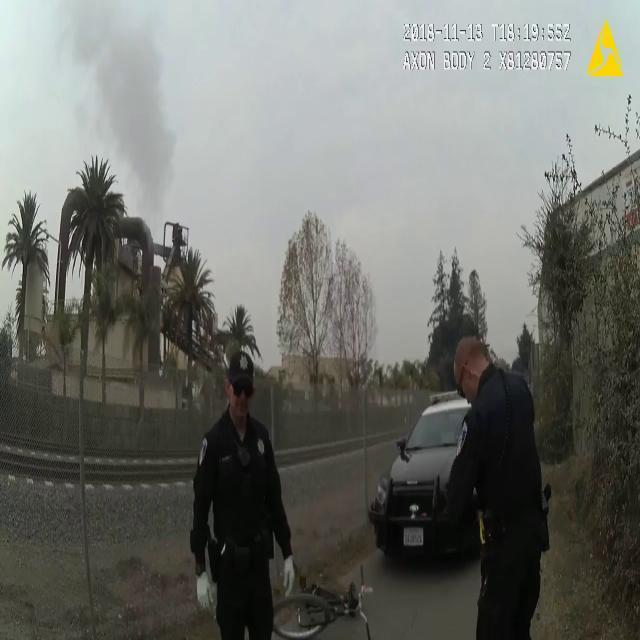gun: (198, 521, 222, 585)
